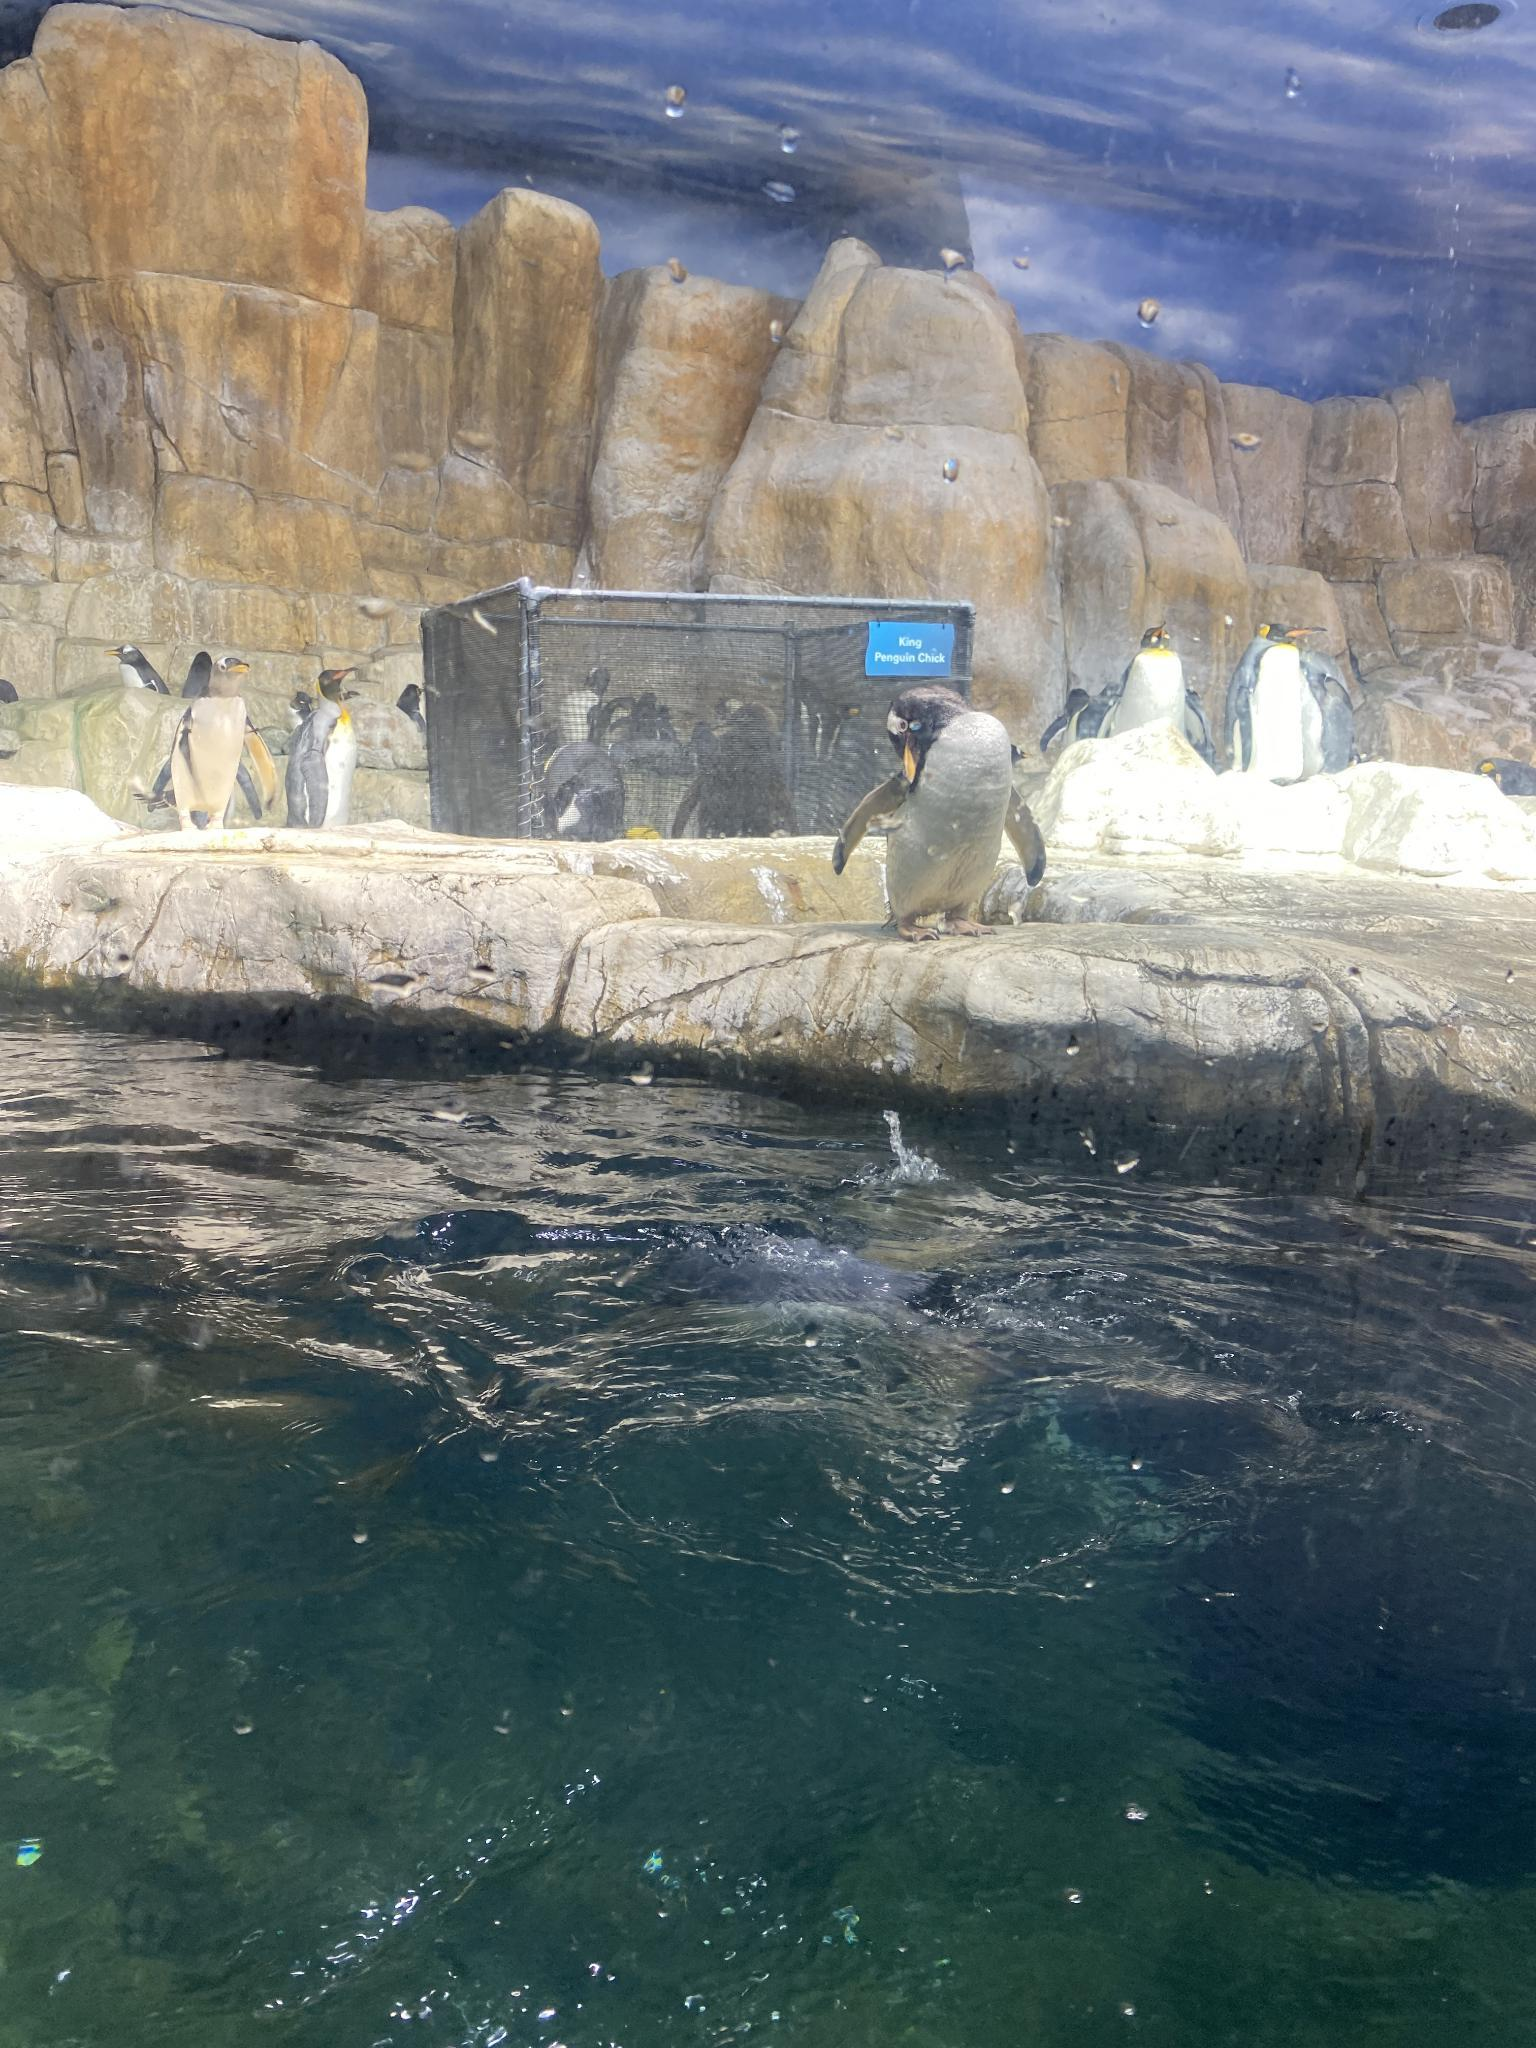penguin: (833, 689, 1044, 939), (615, 1222, 978, 1345), (134, 656, 279, 826), (671, 692, 792, 839), (1220, 618, 1317, 787), (1104, 626, 1208, 777), (286, 664, 357, 822), (1296, 655, 1352, 776), (547, 742, 623, 830), (1042, 687, 1113, 748), (561, 664, 607, 740), (106, 642, 166, 697), (1473, 753, 1534, 797)
